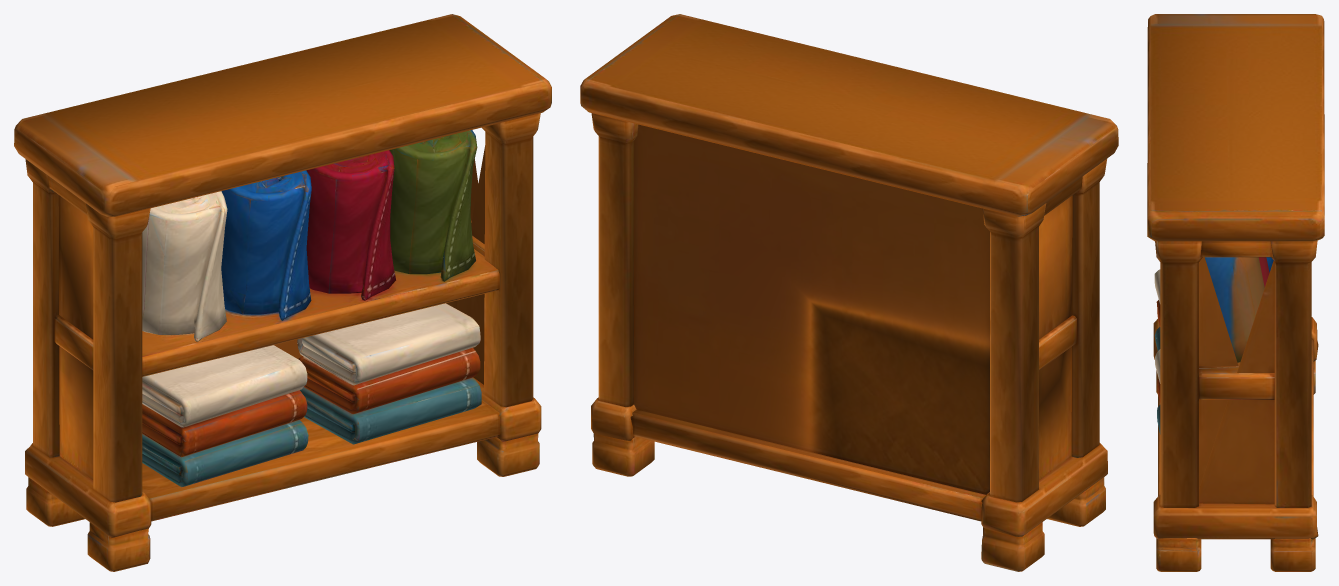
The model's file is tailor_fabric_cabinet.glb.
3 views of the same model, side by side, from view 1: azimuth 30°, elevation 25°; view 2: azimuth 150°, elevation 25°; view 3: azimuth 270°, elevation 25° (orthographic). The views are drawn at different scales.
Visible parts, largest first — view 1: kit-tailor-fabric-cabinet-1; view 2: kit-tailor-fabric-cabinet-1; view 3: kit-tailor-fabric-cabinet-1.
Boxes of the visible parts, x1=… form: kit-tailor-fabric-cabinet-1: x1=14, y1=14, x2=551, y2=571; kit-tailor-fabric-cabinet-1: x1=580, y1=14, x2=1118, y2=571; kit-tailor-fabric-cabinet-1: x1=1147, y1=14, x2=1324, y2=571.
Size of the model in its own units: 1.8 by 1.5 by 0.6645.
Materials: 1 (1 with a texture image).
